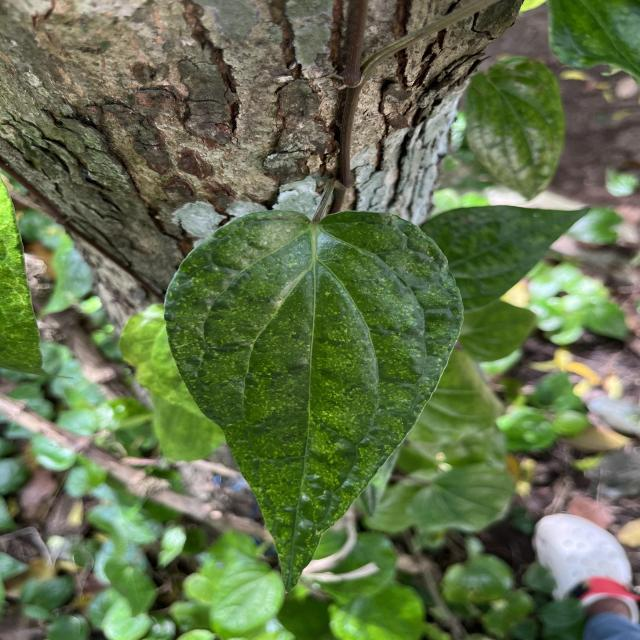Piper betle: (161, 207, 468, 595)
